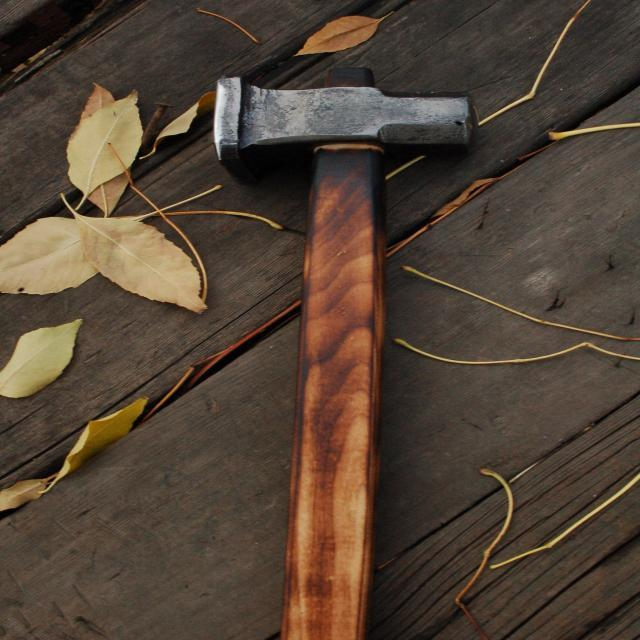hammer: (210, 56, 484, 640)
